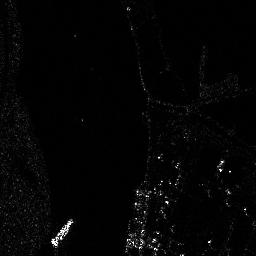ship: (48, 217, 73, 248)
